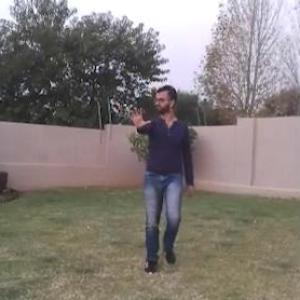follow_hand: (125, 102, 152, 132)
